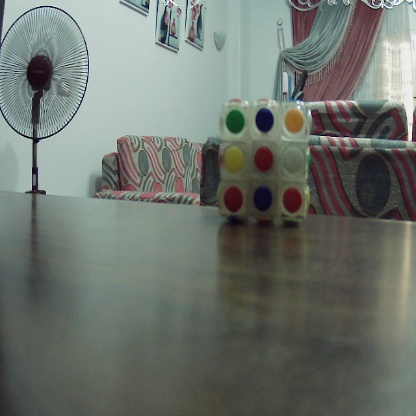Rubix Cube: (222, 98, 307, 221)
